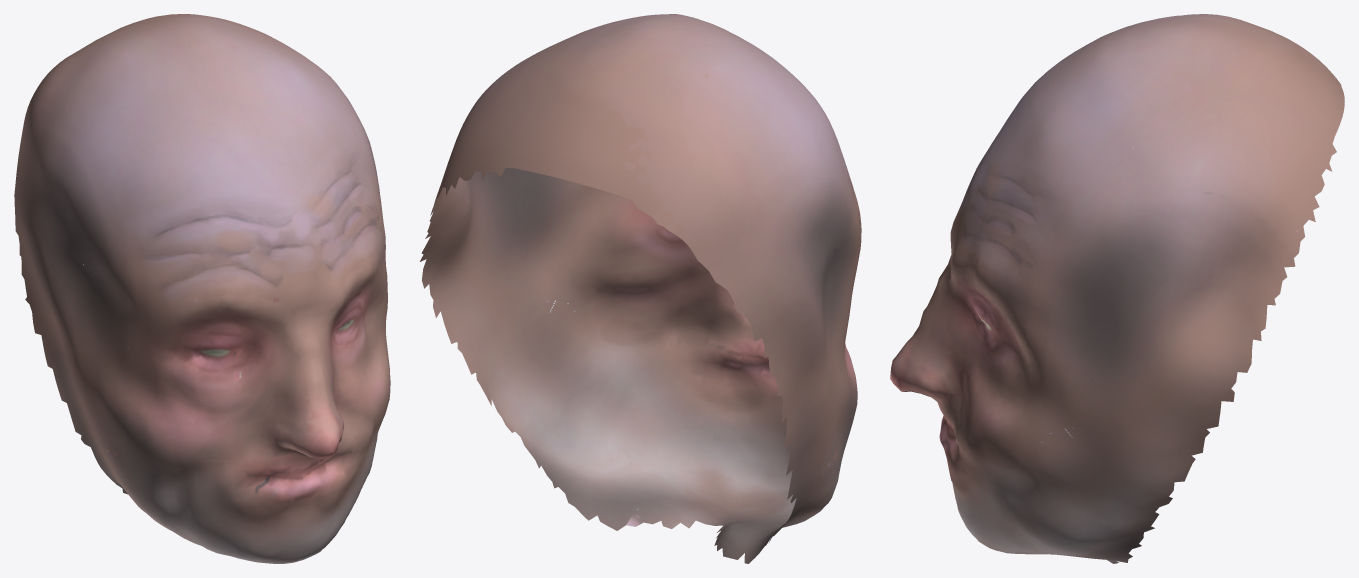
The model's file is SM_Ivano00_Head.fbx.
The picture shows the model from 3 angles, left to right: view 1: azimuth 30°, elevation 25°; view 2: azimuth 150°, elevation 25°; view 3: azimuth 270°, elevation 25°; orthographic projection. The views are drawn at different scales.
Visible parts, largest first — view 1: SM_Ivano00_Head; view 2: SM_Ivano00_Head; view 3: SM_Ivano00_Head.
Part boxes in pixels (<box>): SM_Ivano00_Head: <box>14,14,390,563</box>; SM_Ivano00_Head: <box>420,14,861,563</box>; SM_Ivano00_Head: <box>890,14,1344,563</box>.
Bounding box in the file's own units: 28.31 × 41.27 × 33.5.
